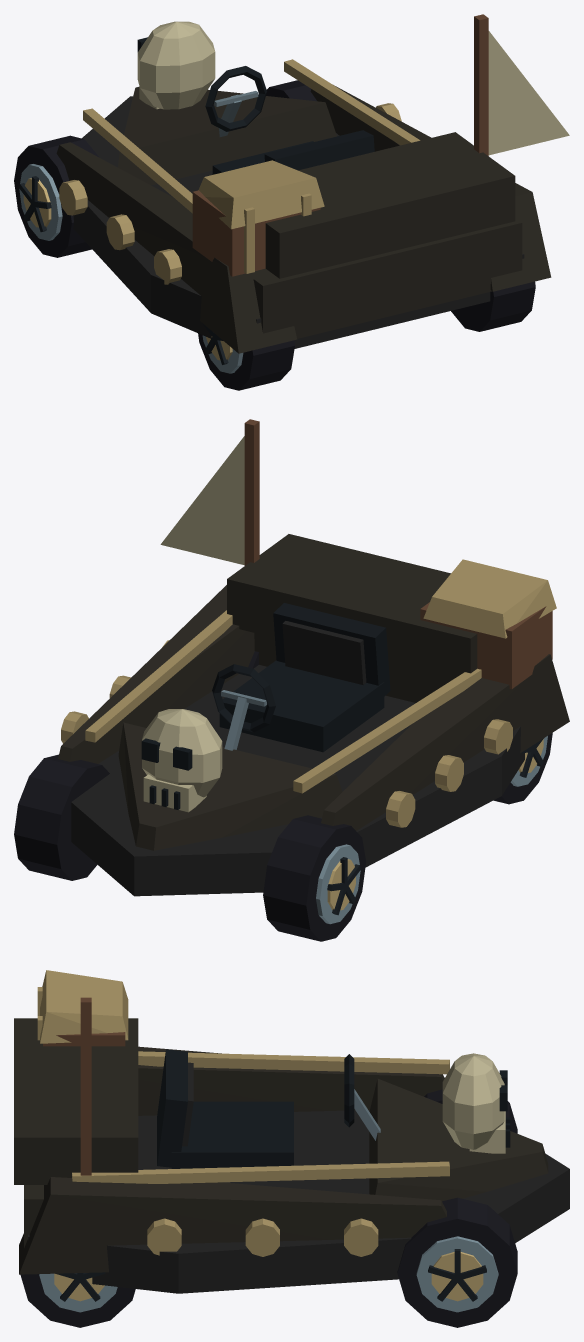
The model's file is kart.glb.
The picture shows the model from 3 angles, top to bottom: view 1: azimuth 30°, elevation 25°; view 2: azimuth 150°, elevation 25°; view 3: azimuth 270°, elevation 25°; orthographic projection. The views are drawn at different scales.
Visible parts, largest first — view 1: identity-ship-ship-pointed-bow-and-raised-stern, identity-ship-motif-treasure, identity-ship-motif-sail, identity-ship-motif-skull, wheel-front-left, identity-ship-driver-cockpit, wheel-rear-left, wheel-rear-right, wheel-front-right; view 2: identity-ship-ship-pointed-bow-and-raised-stern, identity-ship-driver-cockpit, identity-ship-motif-treasure, wheel-front-left, identity-ship-motif-sail, wheel-front-right, identity-ship-motif-skull, wheel-rear-left; view 3: identity-ship-ship-pointed-bow-and-raised-stern, identity-ship-driver-cockpit, wheel-front-right, identity-ship-motif-treasure, identity-ship-motif-skull, wheel-rear-right, identity-ship-motif-sail.
Part boxes in pixels (box(x1,y1,x2,y2)): identity-ship-ship-pointed-bow-and-raised-stern: box(56, 59, 551, 353); identity-ship-motif-treasure: box(192, 160, 324, 276); identity-ship-motif-sail: box(474, 14, 569, 155); identity-ship-motif-skull: box(137, 21, 215, 109); wheel-front-left: box(14, 135, 99, 257); identity-ship-driver-cockpit: box(205, 66, 374, 174); wheel-rear-left: box(198, 323, 294, 390); wheel-rear-right: box(451, 281, 535, 331); wheel-front-right: box(266, 80, 316, 101); identity-ship-ship-pointed-bow-and-raised-stern: box(58, 534, 569, 896); identity-ship-driver-cockpit: box(212, 603, 390, 752); identity-ship-motif-treasure: box(420, 559, 556, 689); wheel-front-left: box(263, 815, 365, 941); identity-ship-motif-sail: box(160, 419, 259, 565); wheel-front-right: box(14, 754, 109, 880); identity-ship-motif-skull: box(141, 709, 222, 812); wheel-rear-left: box(493, 733, 552, 804); identity-ship-ship-pointed-bow-and-raised-stern: box(14, 1018, 569, 1293); identity-ship-driver-cockpit: box(157, 1049, 380, 1168); wheel-front-right: box(397, 1197, 517, 1327); identity-ship-motif-treasure: box(37, 970, 128, 1046); identity-ship-motif-skull: box(442, 1053, 510, 1153); wheel-rear-right: box(20, 1272, 135, 1327); identity-ship-motif-sail: box(80, 997, 91, 1175).
Bounding box in the file's own units: 2.24 × 1.74 × 2.77.
